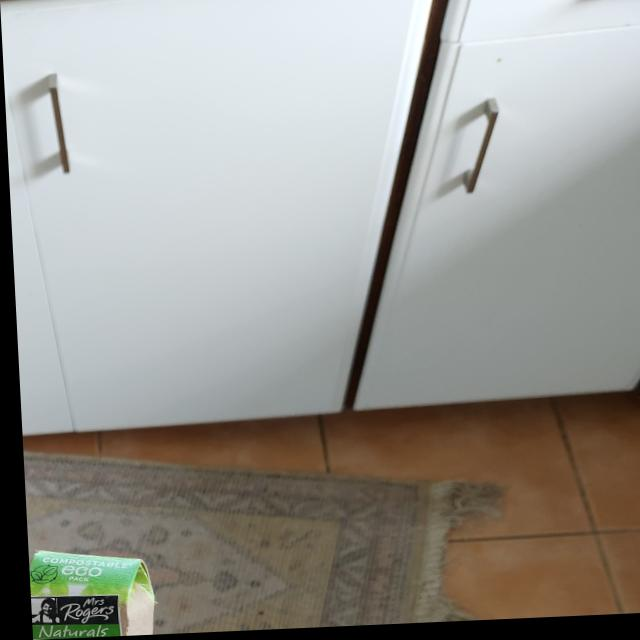onion powder: (22, 546, 148, 640)
